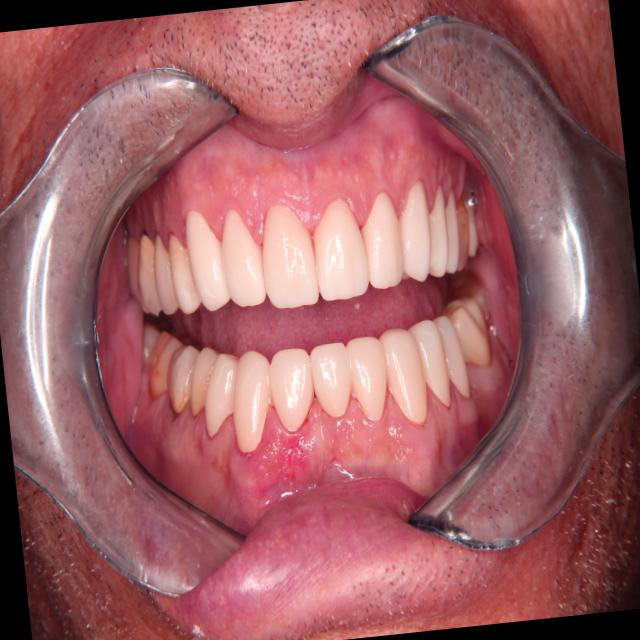tooth: (244, 183, 334, 318), (208, 191, 280, 327), (300, 180, 376, 307), (346, 167, 412, 297), (175, 200, 241, 319), (381, 159, 440, 290), (220, 342, 282, 464), (376, 318, 438, 440), (404, 312, 461, 418), (194, 343, 250, 443), (340, 327, 395, 427), (266, 336, 320, 436), (303, 331, 361, 424), (436, 292, 500, 375), (158, 221, 207, 323), (431, 307, 479, 409), (419, 175, 456, 285), (145, 220, 185, 320), (141, 327, 191, 406), (129, 221, 166, 322), (161, 338, 206, 420), (177, 342, 220, 422), (444, 269, 495, 327), (438, 177, 465, 282), (449, 190, 477, 279), (121, 227, 148, 305), (134, 314, 166, 377), (459, 187, 485, 259)
